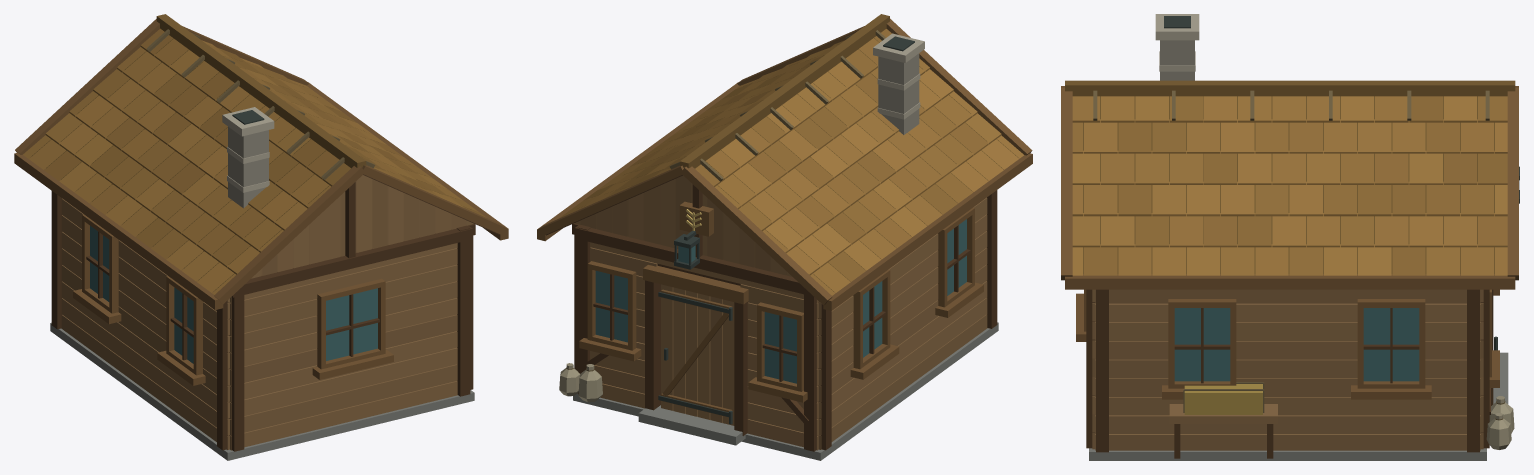
Rendered from Farmstead.glb.
The picture shows the model from 3 angles, left to right: view 1: azimuth 30°, elevation 25°; view 2: azimuth 150°, elevation 25°; view 3: azimuth 270°, elevation 25°; orthographic projection. The views are drawn at different scales.
Visible parts, largest first — view 1: Farmstead, FarmsteadGlass; view 2: Farmstead, FarmsteadDoor, FarmsteadGlass; view 3: Farmstead, FarmsteadGlass.
Boxes of the visible parts, box(x1,y1,x2,y2) form: Farmstead: box(14, 14, 508, 460); FarmsteadGlass: box(90, 226, 377, 363); Farmstead: box(537, 14, 1032, 460); FarmsteadDoor: box(658, 284, 734, 425); FarmsteadGlass: box(595, 219, 966, 383); Farmstead: box(1061, 14, 1519, 460); FarmsteadGlass: box(1174, 308, 1419, 381).
Size of the model in its own units: 5.33 by 5.22 by 6.43.
